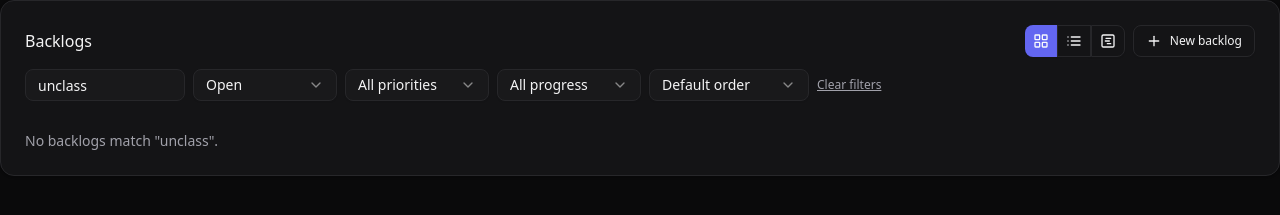
Scenario: BacklogListSection › Unclassified row (issue #152) › shows the Unclassified row even when the filtered backlog list itself is empty
Click the button named "List" at point(1074, 41), box [1057, 25, 1091, 57]
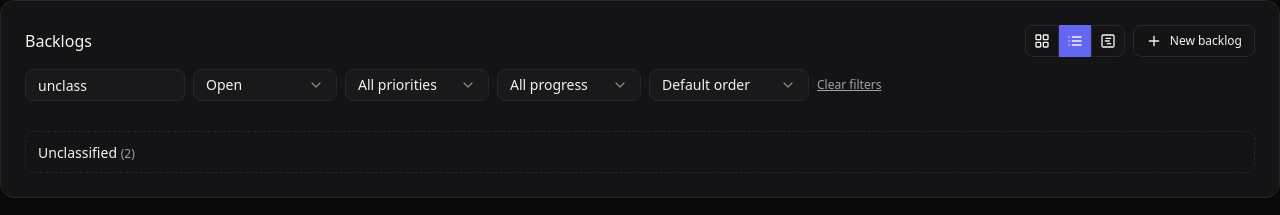
Now the link "Unclassified (2)" is shown, box [38, 143, 135, 162]
Now the text "No backlogs match \"unclass\"." is gone
